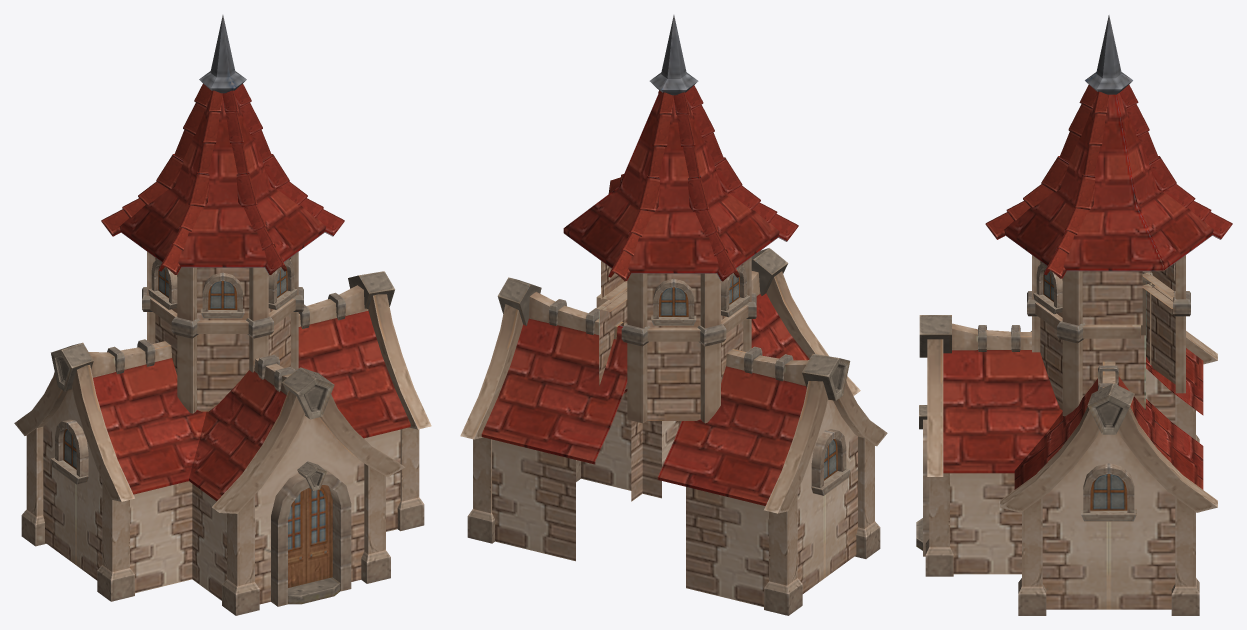
Rendered from castle.FBX.
3 renders of one model, left to right at view 1: azimuth 30°, elevation 25°; view 2: azimuth 150°, elevation 25°; view 3: azimuth 270°, elevation 25°, orthographic. The views are drawn at different scales.
Parts seen in each view (by area): view 1: castle; view 2: castle; view 3: castle.
Part boxes in pixels (box(x1,y1,x2,y2)): castle: box(14, 15, 431, 615); castle: box(460, 15, 887, 615); castle: box(916, 15, 1232, 615).
Size of the model in its own units: 147 by 225 by 123.
